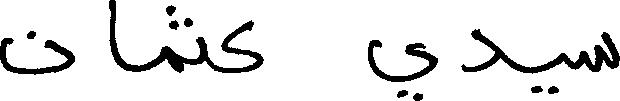X: (370, 35, 435, 100), (0, 26, 74, 79), (170, 0, 206, 77), (224, 15, 261, 77), (462, 24, 500, 76), (530, 48, 569, 98), (580, 27, 619, 76), (108, 0, 119, 70), (157, 1, 168, 69)
